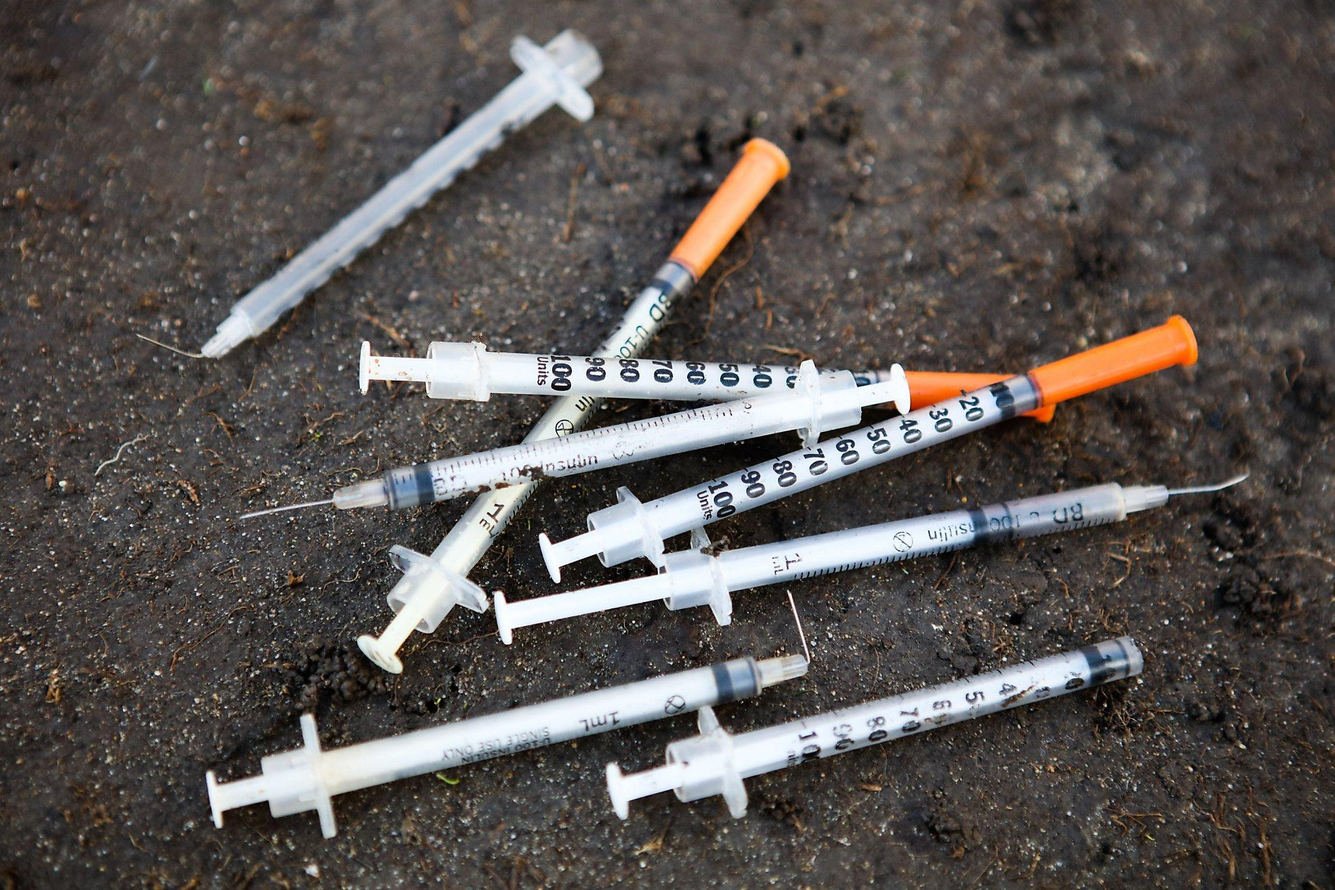Syringe: (540, 316, 1196, 579), (201, 30, 602, 356), (494, 476, 1245, 643), (207, 656, 807, 837), (607, 637, 1143, 818), (316, 361, 909, 509), (357, 481, 537, 672), (359, 341, 799, 401)
